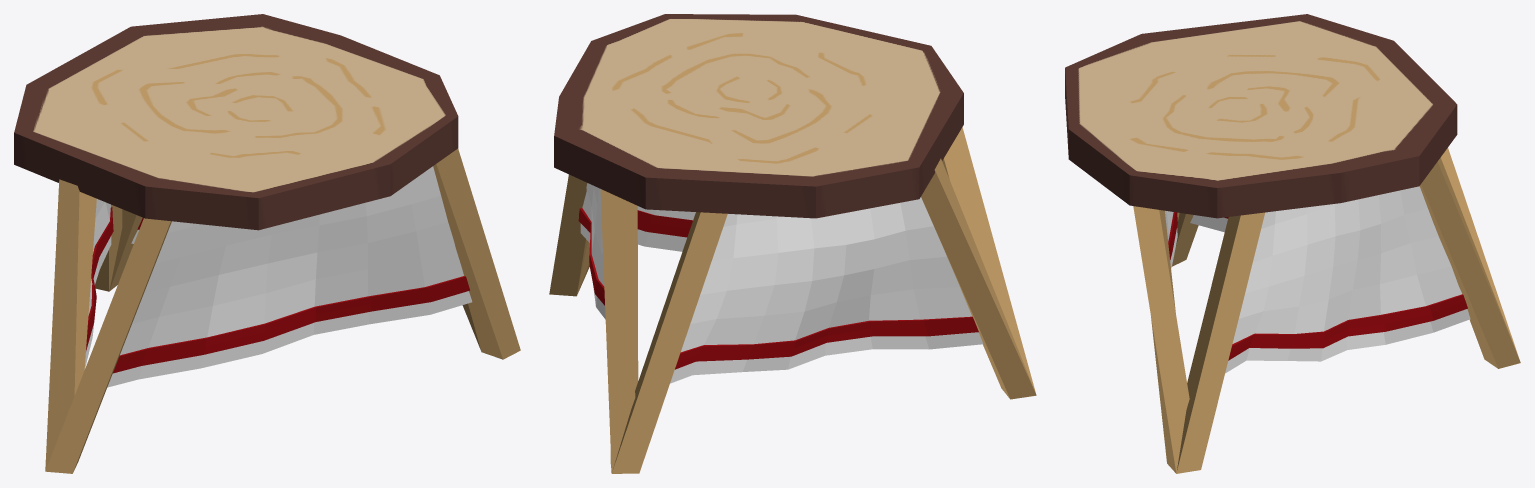
Rendered from level3WoodCollector Remobel.glb.
The picture shows the model from 3 angles, left to right: view 1: azimuth 30°, elevation 25°; view 2: azimuth 150°, elevation 25°; view 3: azimuth 270°, elevation 25°; orthographic projection. The views are drawn at different scales.
Parts seen in each view (by area): view 1: Cylinder, Plane.005, Cube.005; view 2: Cylinder, Plane.005, Cube.005; view 3: Cylinder, Plane.005, Cube.005.
Boxes of the visible parts, x1,y1,x2,y2 form: Cylinder: (14,14,458,230); Plane.005: (84,166,472,387); Cube.005: (45,148,520,473); Cylinder: (554,14,963,218); Plane.005: (578,183,983,383); Cube.005: (549,127,1036,473); Cylinder: (1065,14,1457,218); Plane.005: (1165,186,1470,373); Cube.005: (1133,148,1520,473).
Bounding box in the file's own units: 2.25 × 1.23 × 1.96.
4 materials, 1 textured.
